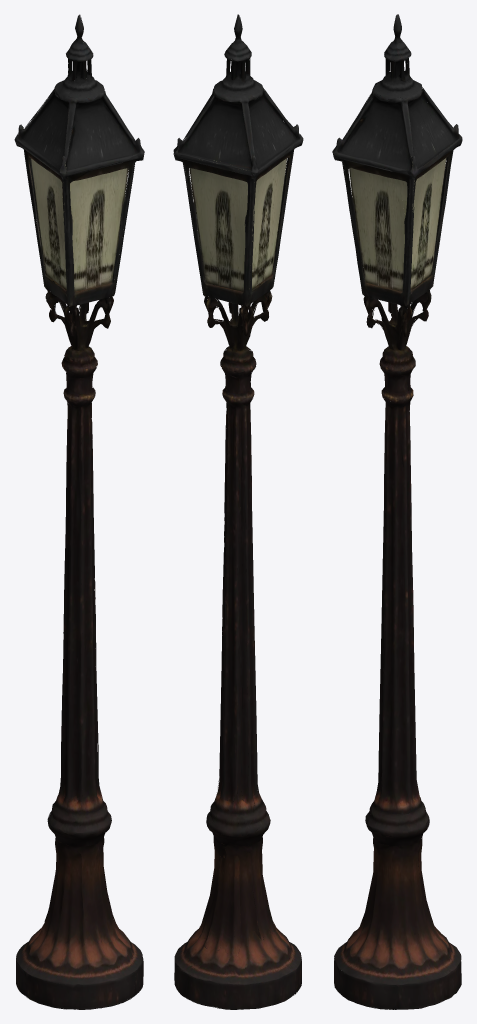
The model's file is farol_calle_1905.glb.
The picture shows the model from 3 angles, left to right: view 1: azimuth 30°, elevation 25°; view 2: azimuth 150°, elevation 25°; view 3: azimuth 330°, elevation 25°; orthographic projection.
Visible parts, largest first — view 1: geometry_0; view 2: geometry_0; view 3: geometry_0.
Part boxes in pixels (bbox=[...]): geometry_0: bbox=[14, 14, 144, 1009]; geometry_0: bbox=[173, 14, 303, 1009]; geometry_0: bbox=[332, 14, 462, 1009].
Bounding box in the file's own units: 0.5001 × 4.2 × 0.4999.
1 material, 1 textured.
